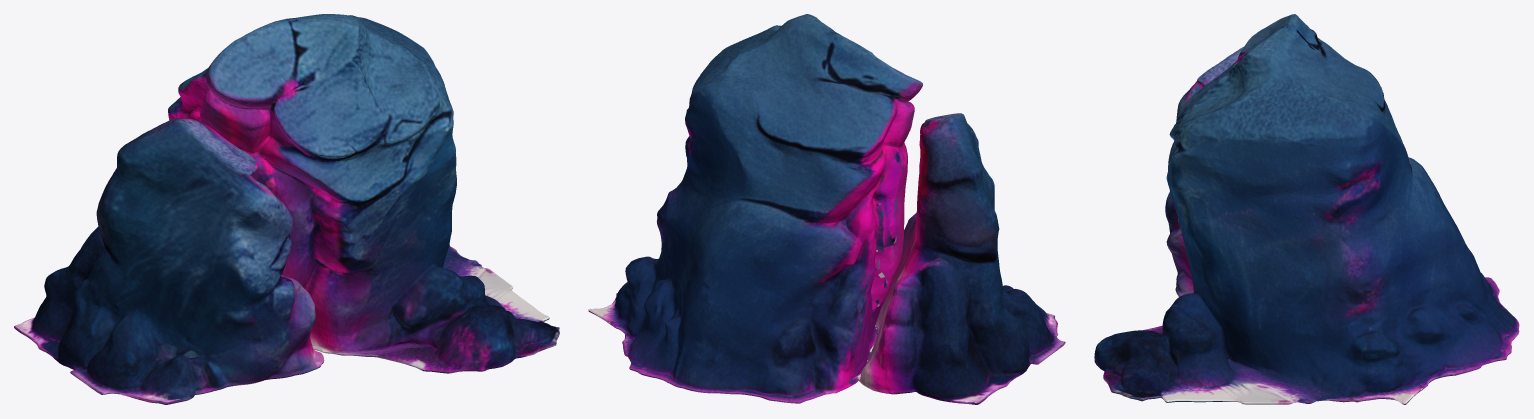
File: shore-stone-13-generated-2026-05-17T20-28-41-090Z.glb
The picture shows the model from 3 angles, left to right: view 1: azimuth 30°, elevation 25°; view 2: azimuth 150°, elevation 25°; view 3: azimuth 270°, elevation 25°; orthographic projection. The views are drawn at different scales.
Visible parts, largest first — view 1: temp_mesh.ply; view 2: temp_mesh.ply; view 3: temp_mesh.ply.
Part boxes in pixels (x1,y1,x2,y2): temp_mesh.ply: [14, 14, 559, 404]; temp_mesh.ply: [588, 14, 1065, 404]; temp_mesh.ply: [1094, 14, 1519, 404].
Size of the model in its own units: 1.97 by 1.36 by 1.82.
1 material, 1 textured.
